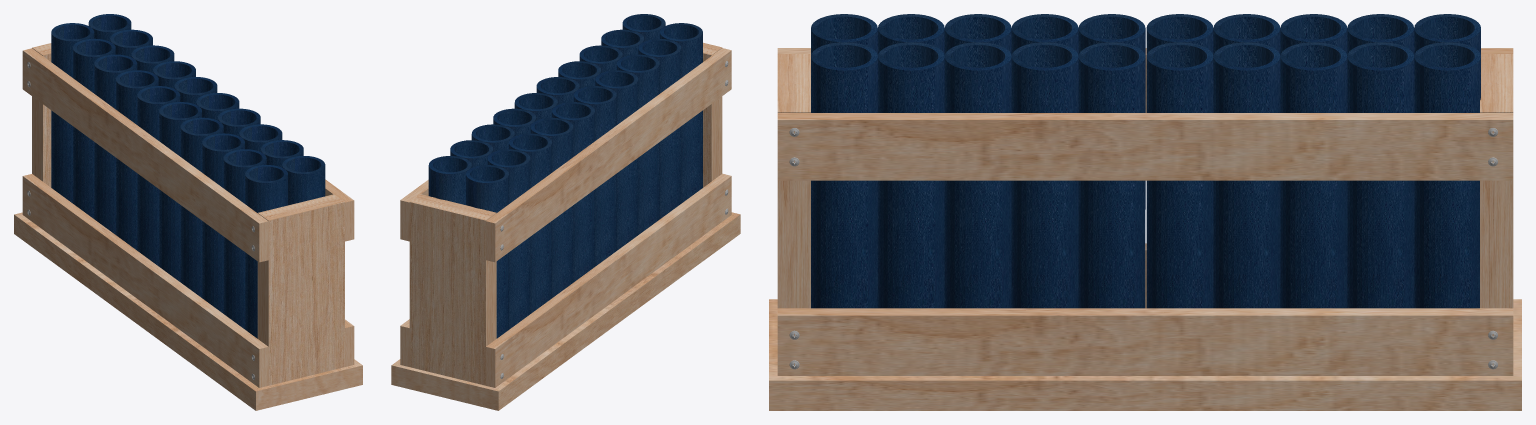
The model's file is BlueHDPE1.75inch20RACK.fbx.
3 views of the same model, side by side, from view 1: azimuth 30°, elevation 25°; view 2: azimuth 150°, elevation 25°; view 3: azimuth 270°, elevation 25° (orthographic). The views are drawn at different scales.
Parts seen in each view (by area): view 1: Cube.001, Cube.005, Cube.006, Cube, Cylinder.015, Cylinder.019, Cylinder.013, Cylinder.011, Cylinder.017, Cylinder.014, Cylinder.018, Cylinder.012 (+15 smaller); view 2: Cube.002, Cube.005, Cube.006, Cube, Cylinder.020, Cylinder.012, Cylinder.019, Cylinder.014, Cylinder.013, Cylinder.018, Cylinder.017, Cylinder.016 (+15 smaller); view 3: Cube.003, Cube.004, Cube, Cylinder.003, Cylinder.009, Cylinder.002, Cylinder.008, Cylinder.007, Cylinder.001, Cylinder.006, Cylinder.005, Cylinder.004 (+13 smaller).
Part boxes in pixels (bbox=[...]): Cube.001: bbox=[257, 194, 344, 385]; Cube.005: bbox=[22, 48, 268, 262]; Cube.006: bbox=[22, 174, 268, 387]; Cube: bbox=[14, 212, 362, 410]; Cylinder.015: bbox=[137, 86, 180, 266]; Cylinder.019: bbox=[180, 117, 223, 297]; Cylinder.013: bbox=[94, 54, 137, 234]; Cylinder.011: bbox=[51, 23, 94, 203]; Cylinder.017: bbox=[223, 149, 266, 329]; Cylinder.014: bbox=[116, 70, 158, 250]; Cylinder.018: bbox=[202, 133, 244, 313]; Cylinder.012: bbox=[73, 38, 115, 218]; Cube.002: bbox=[409, 194, 496, 385]; Cube.005: bbox=[486, 48, 731, 262]; Cube.006: bbox=[486, 173, 731, 387]; Cube: bbox=[391, 212, 740, 410]; Cylinder.020: bbox=[574, 86, 616, 266]; Cylinder.012: bbox=[487, 149, 530, 329]; Cylinder.019: bbox=[595, 70, 638, 250]; Cylinder.014: bbox=[530, 117, 573, 297]; Cylinder.013: bbox=[509, 133, 551, 313]; Cylinder.018: bbox=[617, 54, 659, 234]; Cylinder.017: bbox=[638, 39, 681, 218]; Cylinder.016: bbox=[660, 23, 702, 203]; Cube.003: bbox=[777, 308, 1513, 375]; Cube.004: bbox=[777, 113, 1513, 180]; Cube: bbox=[769, 299, 1521, 410]; Cylinder.003: bbox=[944, 42, 1011, 308]; Cylinder.009: bbox=[1347, 42, 1414, 308]; Cylinder.002: bbox=[1011, 42, 1078, 308]; Cylinder.008: bbox=[1280, 42, 1347, 308]; Cylinder.007: bbox=[1213, 42, 1280, 308]; Cylinder.001: bbox=[1078, 42, 1145, 308]; Cylinder.006: bbox=[1146, 42, 1213, 308]; Cylinder.005: bbox=[811, 42, 877, 308]; Cylinder.004: bbox=[878, 42, 944, 308].
Bounding box in the file's own units: 0.23 × 0.4328 × 0.9.
37 materials, 21 textured.
